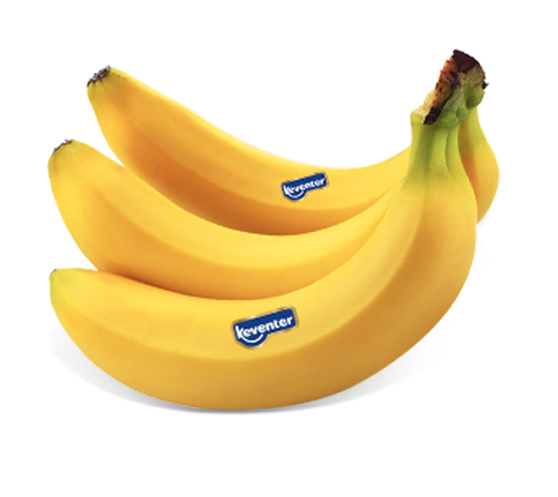banana: (34, 116, 468, 296)
